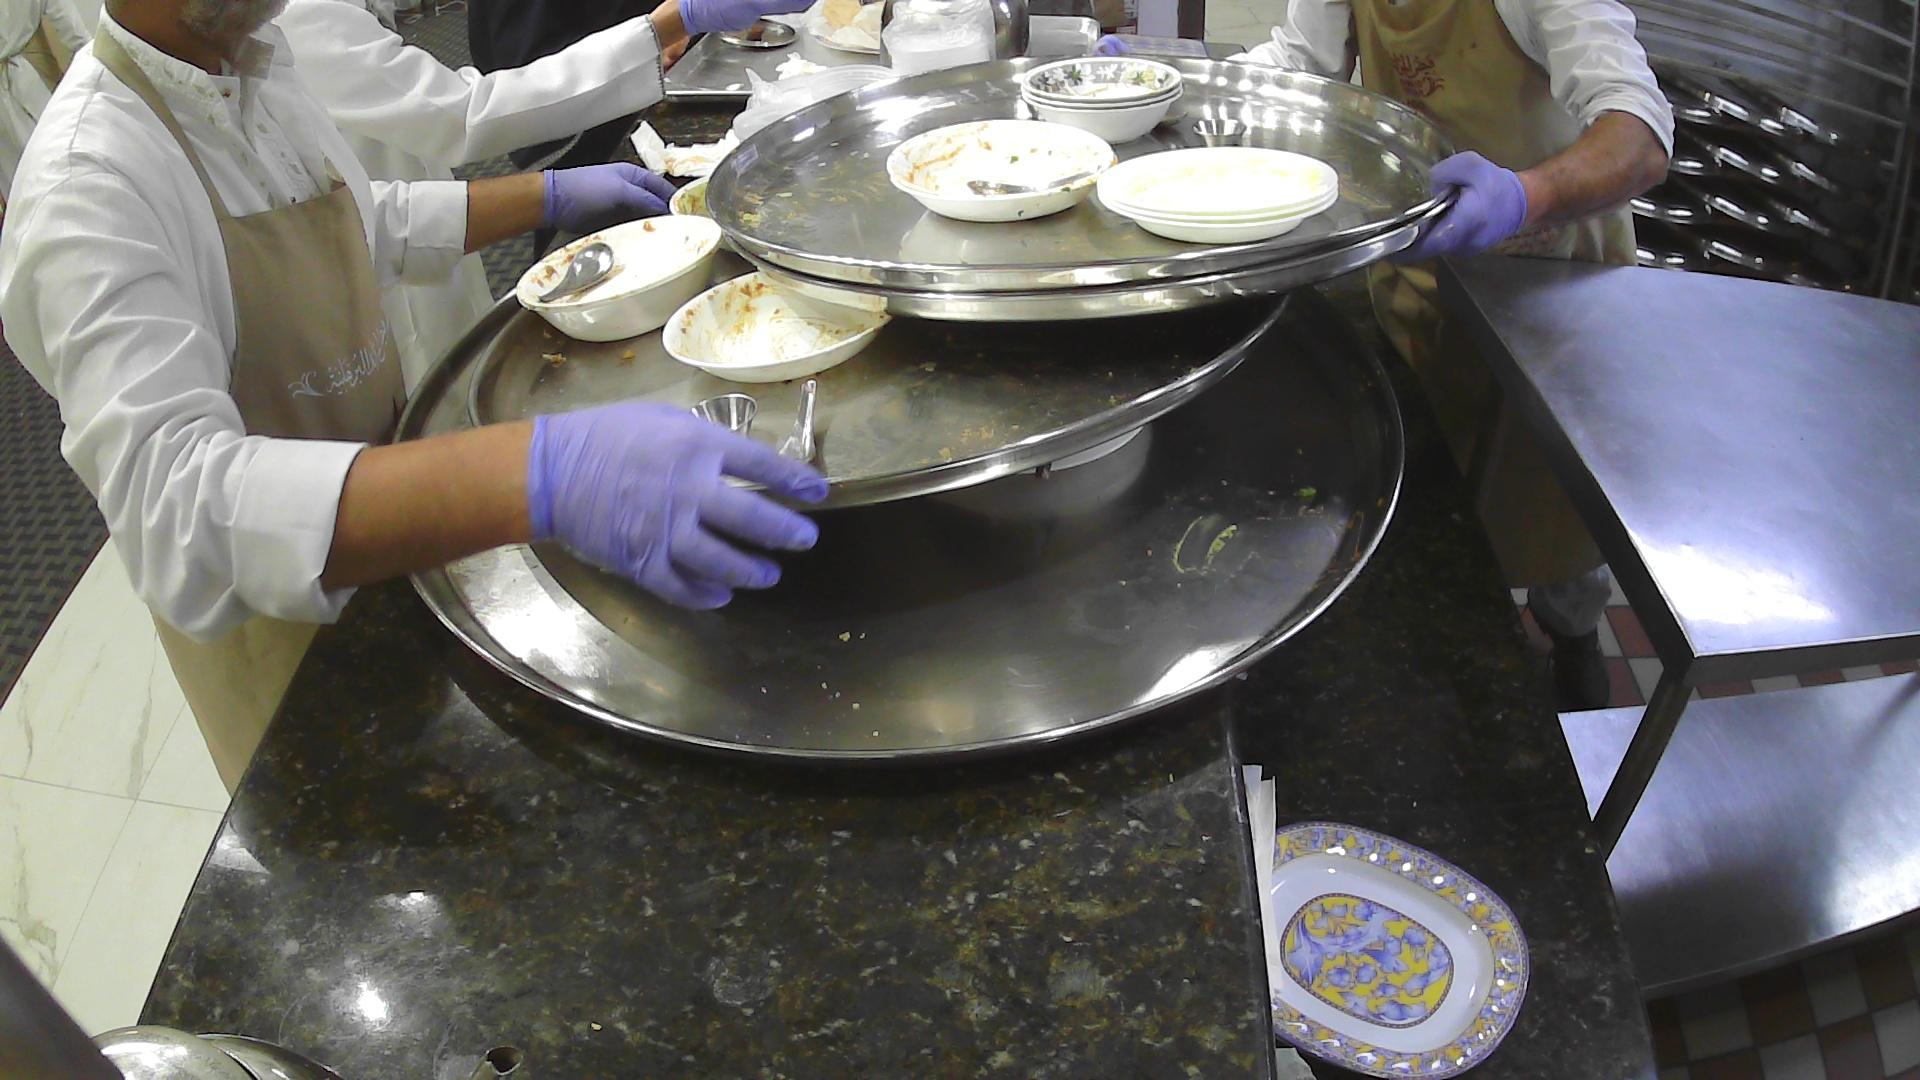thaal: (386, 236, 1470, 789), (467, 210, 1307, 522), (704, 52, 1468, 343)
